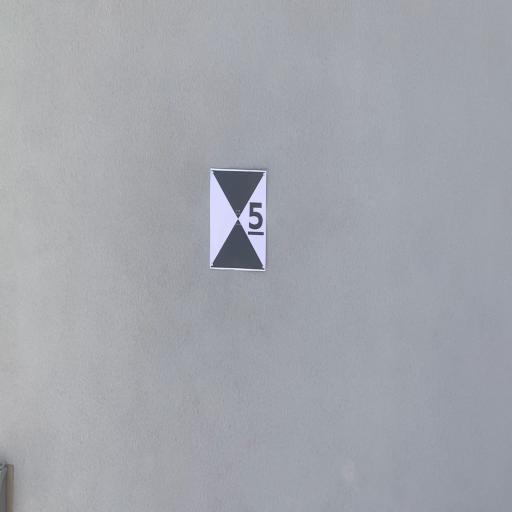target5: (210, 168, 266, 271)
